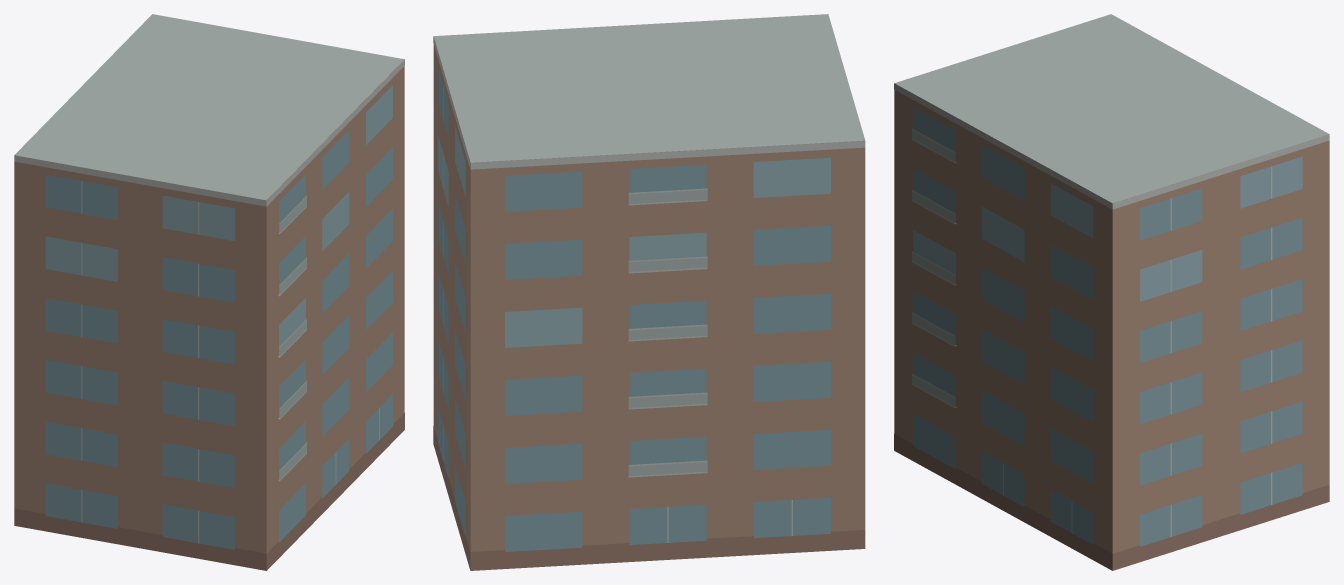
File: survey-upis-32903075.glb
The picture shows the model from 3 angles, left to right: view 1: azimuth 30°, elevation 25°; view 2: azimuth 150°, elevation 25°; view 3: azimuth 270°, elevation 25°; orthographic projection. The views are drawn at different scales.
Parts seen in each view (by area): view 1: survey-upis-32903075.tmp; view 2: survey-upis-32903075.tmp; view 3: survey-upis-32903075.tmp.
Boxes of the visible parts, bbox=[...] form: survey-upis-32903075.tmp: bbox=[14, 14, 404, 570]; survey-upis-32903075.tmp: bbox=[433, 14, 865, 570]; survey-upis-32903075.tmp: bbox=[894, 14, 1329, 570].
Size of the model in its own units: 15.81 by 14.3 by 15.36.
